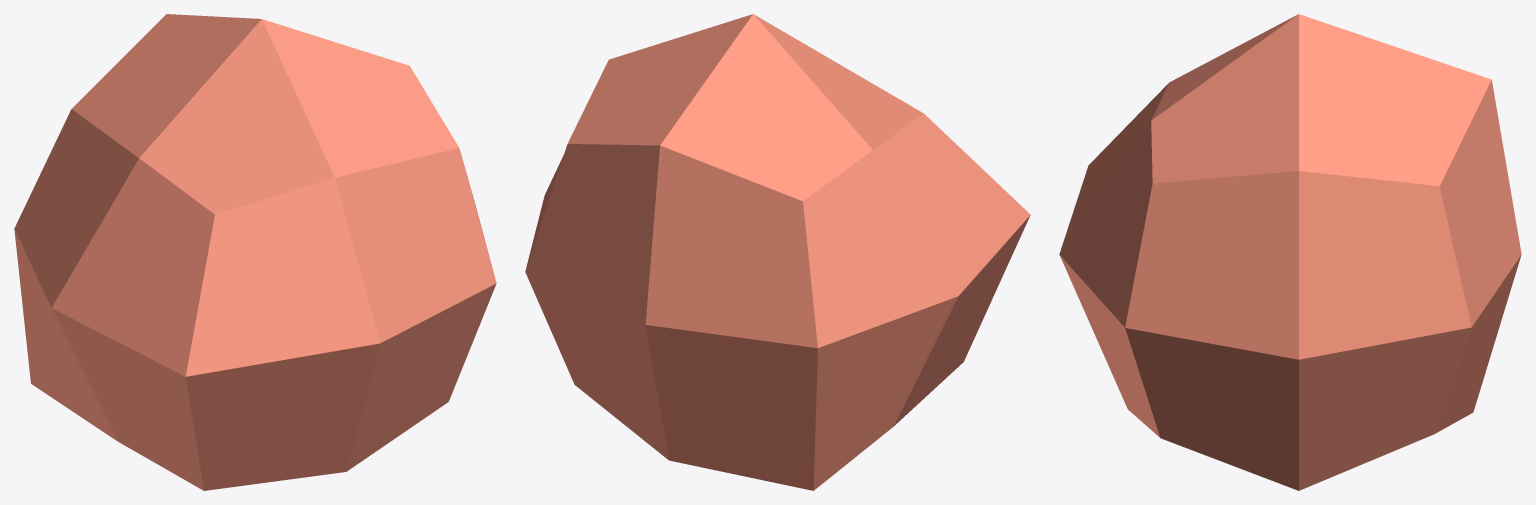
Rendered from asteroid3.glb.
3 views of the same model, side by side, from view 1: azimuth 30°, elevation 25°; view 2: azimuth 150°, elevation 25°; view 3: azimuth 270°, elevation 25° (orthographic). The views are drawn at different scales.
Parts seen in each view (by area): view 1: Cube.002; view 2: Cube.002; view 3: Cube.002.
Boxes of the visible parts, bbox=[...] form: Cube.002: bbox=[14, 14, 496, 490]; Cube.002: bbox=[525, 14, 1030, 490]; Cube.002: bbox=[1059, 14, 1521, 490].
Bounding box in the file's own units: 2.83 × 2.86 × 2.64.
1 material, 1 textured.
